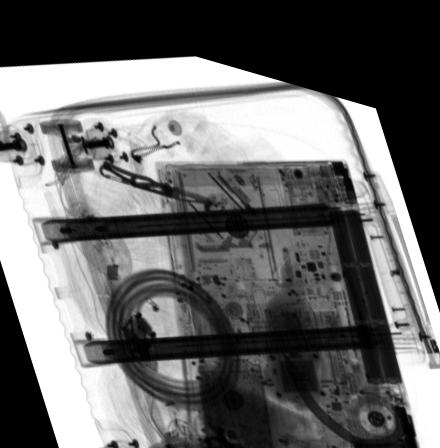Knife: (97, 154, 220, 193)
